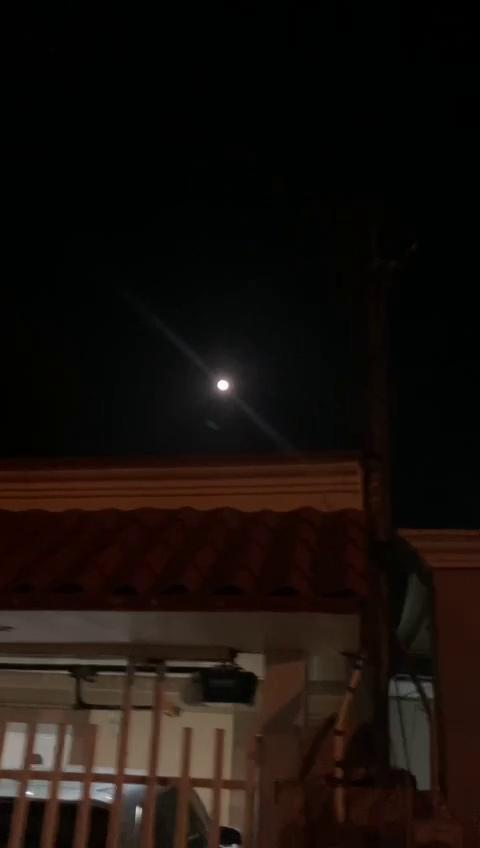moon: (210, 370, 236, 396)
